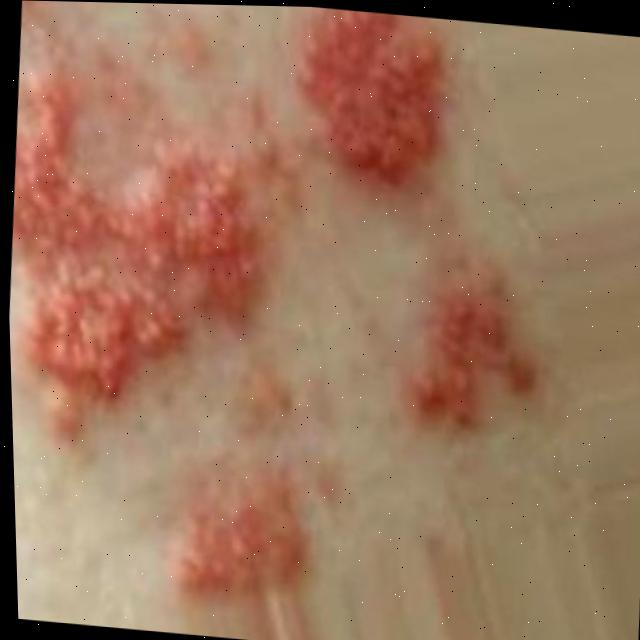Shingles: (0, 0, 578, 622)
